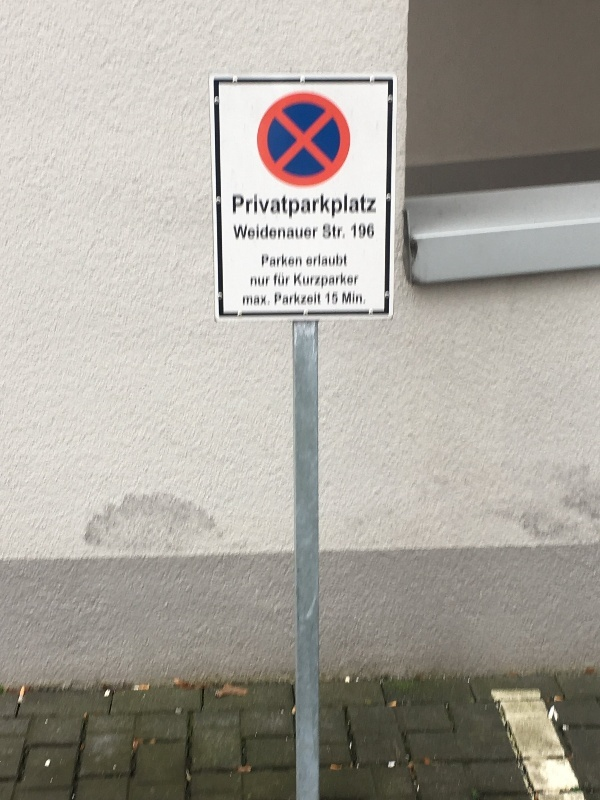text: (241, 193, 256, 220), (257, 193, 272, 220), (273, 193, 288, 220), (289, 193, 304, 220), (305, 193, 320, 220), (321, 193, 336, 220), (337, 193, 352, 220), (353, 193, 368, 220), (305, 272, 320, 290), (321, 272, 336, 290), (337, 272, 352, 290), (241, 224, 256, 241), (257, 224, 272, 241), (273, 224, 288, 241), (289, 224, 304, 241), (353, 223, 368, 240), (273, 272, 288, 288), (305, 292, 321, 307), (305, 224, 319, 241), (321, 253, 336, 268), (289, 292, 304, 307), (323, 223, 336, 240), (273, 254, 288, 268), (307, 253, 320, 268), (275, 292, 288, 307), (353, 291, 366, 306), (233, 193, 240, 220), (369, 193, 376, 220), (289, 254, 302, 268), (294, 272, 304, 290), (257, 276, 271, 288), (257, 295, 271, 307), (337, 253, 348, 268), (325, 291, 336, 306), (243, 295, 256, 307), (353, 272, 361, 290), (262, 254, 272, 268), (337, 223, 345, 240), (343, 291, 352, 306), (233, 224, 240, 241), (369, 223, 375, 240), (250, 276, 256, 288), (289, 272, 291, 288), (351, 223, 352, 240), (337, 291, 338, 306)
